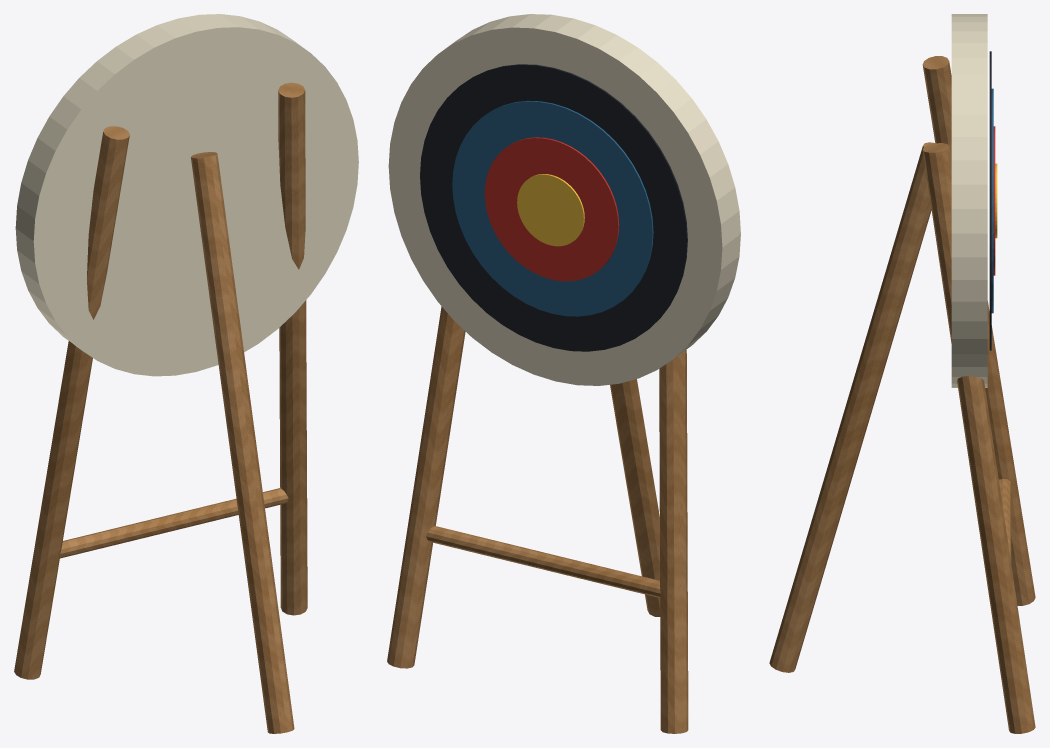
The model's file is archery_target.glb.
3 renders of one model, left to right at view 1: azimuth 30°, elevation 25°; view 2: azimuth 150°, elevation 25°; view 3: azimuth 270°, elevation 25°, orthographic. The views are drawn at different scales.
Visible parts, largest first — view 1: SM_TargetRing, SM_RearLeg, SM_StandLeg, SM_StandLeg.001, SM_StandBrace; view 2: SM_TargetRing, SM_TargetRing.001, SM_TargetRing.002, SM_TargetRing.003, SM_StandLeg, SM_StandLeg.001, SM_RearLeg, SM_StandBrace, SM_TargetRing.004; view 3: SM_RearLeg, SM_TargetRing, SM_StandLeg.001, SM_StandLeg, SM_TargetRing.001, SM_TargetRing.002, SM_StandBrace, SM_TargetRing.003.
Boxes of the visible parts, x1,y1,x2,y2 form: SM_TargetRing: [15, 14, 358, 376]; SM_RearLeg: [191, 152, 294, 733]; SM_StandLeg: [14, 126, 129, 679]; SM_StandLeg.001: [278, 82, 307, 615]; SM_StandBrace: [60, 488, 288, 558]; SM_TargetRing: [388, 14, 740, 385]; SM_TargetRing.001: [420, 64, 687, 351]; SM_TargetRing.002: [452, 100, 653, 316]; SM_TargetRing.003: [484, 137, 619, 281]; SM_StandLeg: [659, 349, 688, 733]; SM_StandLeg.001: [387, 306, 465, 668]; SM_RearLeg: [610, 379, 660, 616]; SM_StandBrace: [426, 526, 660, 597]; SM_TargetRing.004: [517, 174, 584, 246]; SM_RearLeg: [769, 142, 935, 672]; SM_TargetRing: [951, 14, 987, 387]; SM_StandLeg.001: [922, 143, 1035, 733]; SM_StandLeg: [922, 56, 1035, 605]; SM_TargetRing.001: [989, 51, 991, 350]; SM_TargetRing.002: [991, 88, 993, 313]; SM_StandBrace: [999, 479, 1011, 562]; SM_TargetRing.003: [993, 126, 995, 275].
Bounding box in the file's own units: 0.78 × 1.47 × 0.5548.
Materials: 6 (1 with a texture image).
